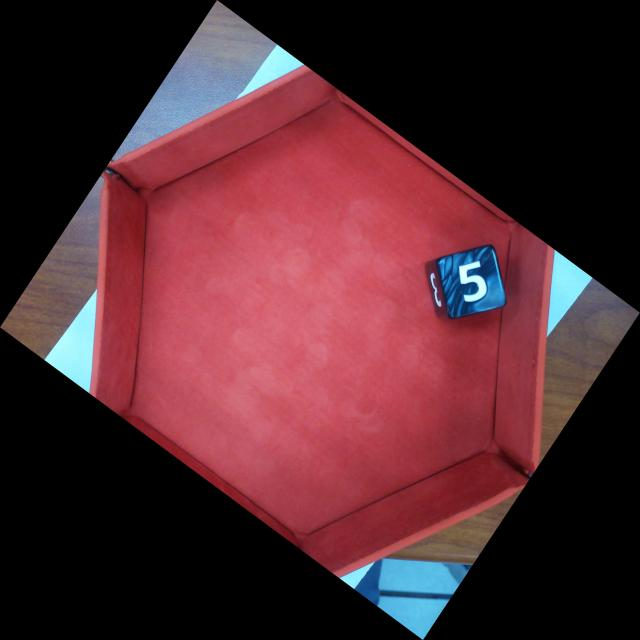dice: (439, 248, 510, 319)
